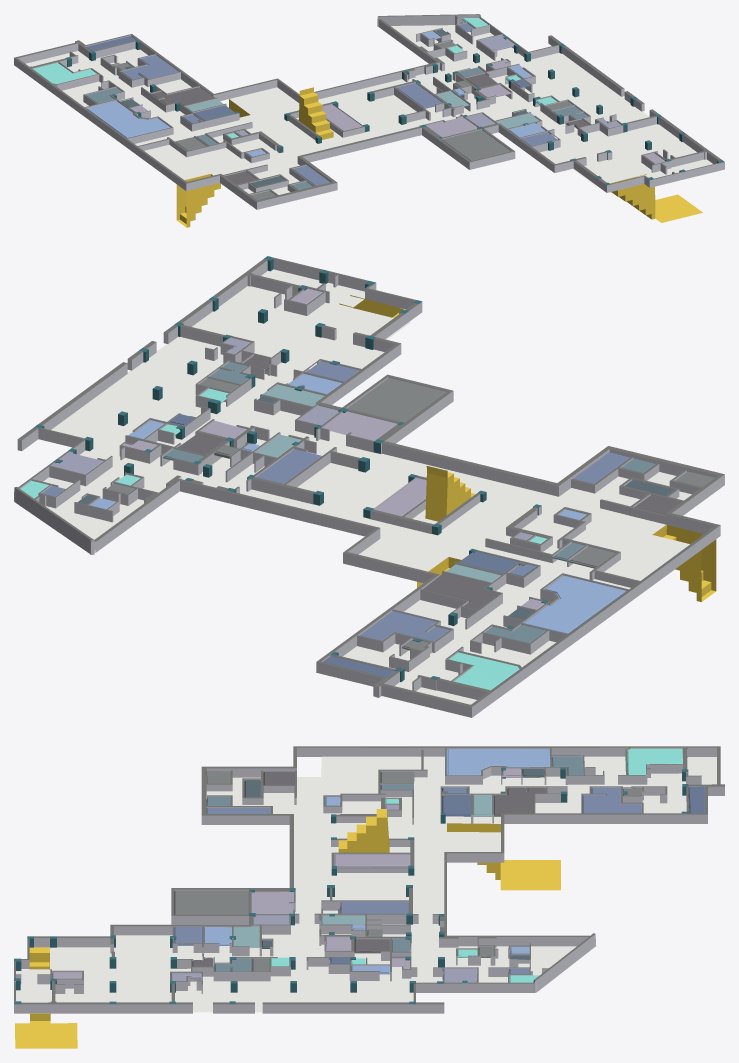
Rendered from hospital2.glb.
3 renders of one model, top to bottom at view 1: azimuth 30°, elevation 25°; view 2: azimuth 150°, elevation 25°; view 3: azimuth 270°, elevation 25°, orthographic. The views are drawn at different scales.
Parts seen in each view (by area): view 1: floor, walls, places, wall top, column; view 2: floor, walls, places, wall top, column; view 3: floor, walls, places, wall top, column.
Boxes of the visible parts, box(x1,y1,x2,y2) form: floor: box(25, 25, 712, 227); walls: box(14, 15, 724, 209); places: box(33, 18, 665, 200); wall top: box(14, 14, 721, 202); column: box(65, 36, 724, 185); floor: box(43, 269, 716, 704); walls: box(14, 258, 724, 717); places: box(20, 288, 714, 690); wall top: box(15, 257, 724, 706); column: box(34, 256, 548, 681); floor: box(15, 756, 716, 1048); walls: box(14, 747, 724, 1013); places: box(52, 748, 705, 983); wall top: box(14, 746, 724, 1004); column: box(14, 767, 689, 1004).
Bounding box in the file's own units: 30.71 × 5.11 × 35.74.
